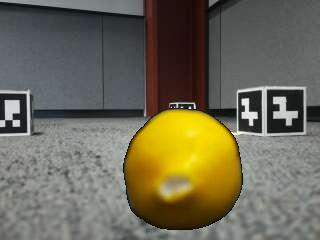lemon: (126, 110, 242, 229)
